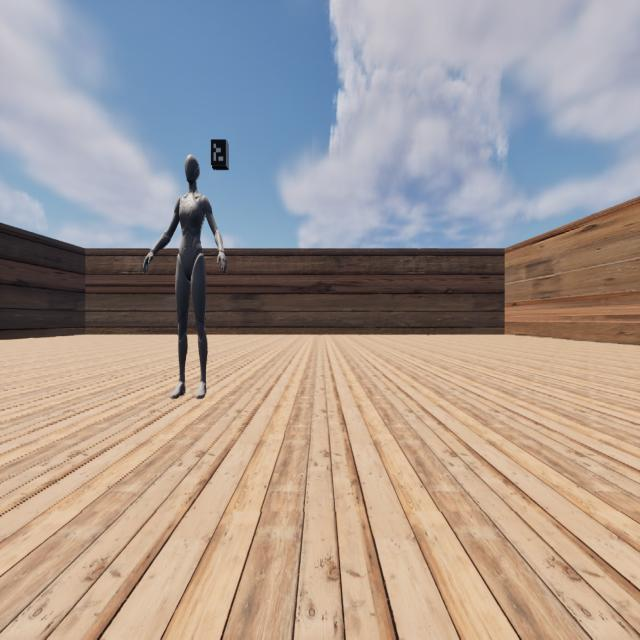aruco: (210, 139, 227, 166)
hip: (176, 253, 205, 269)
